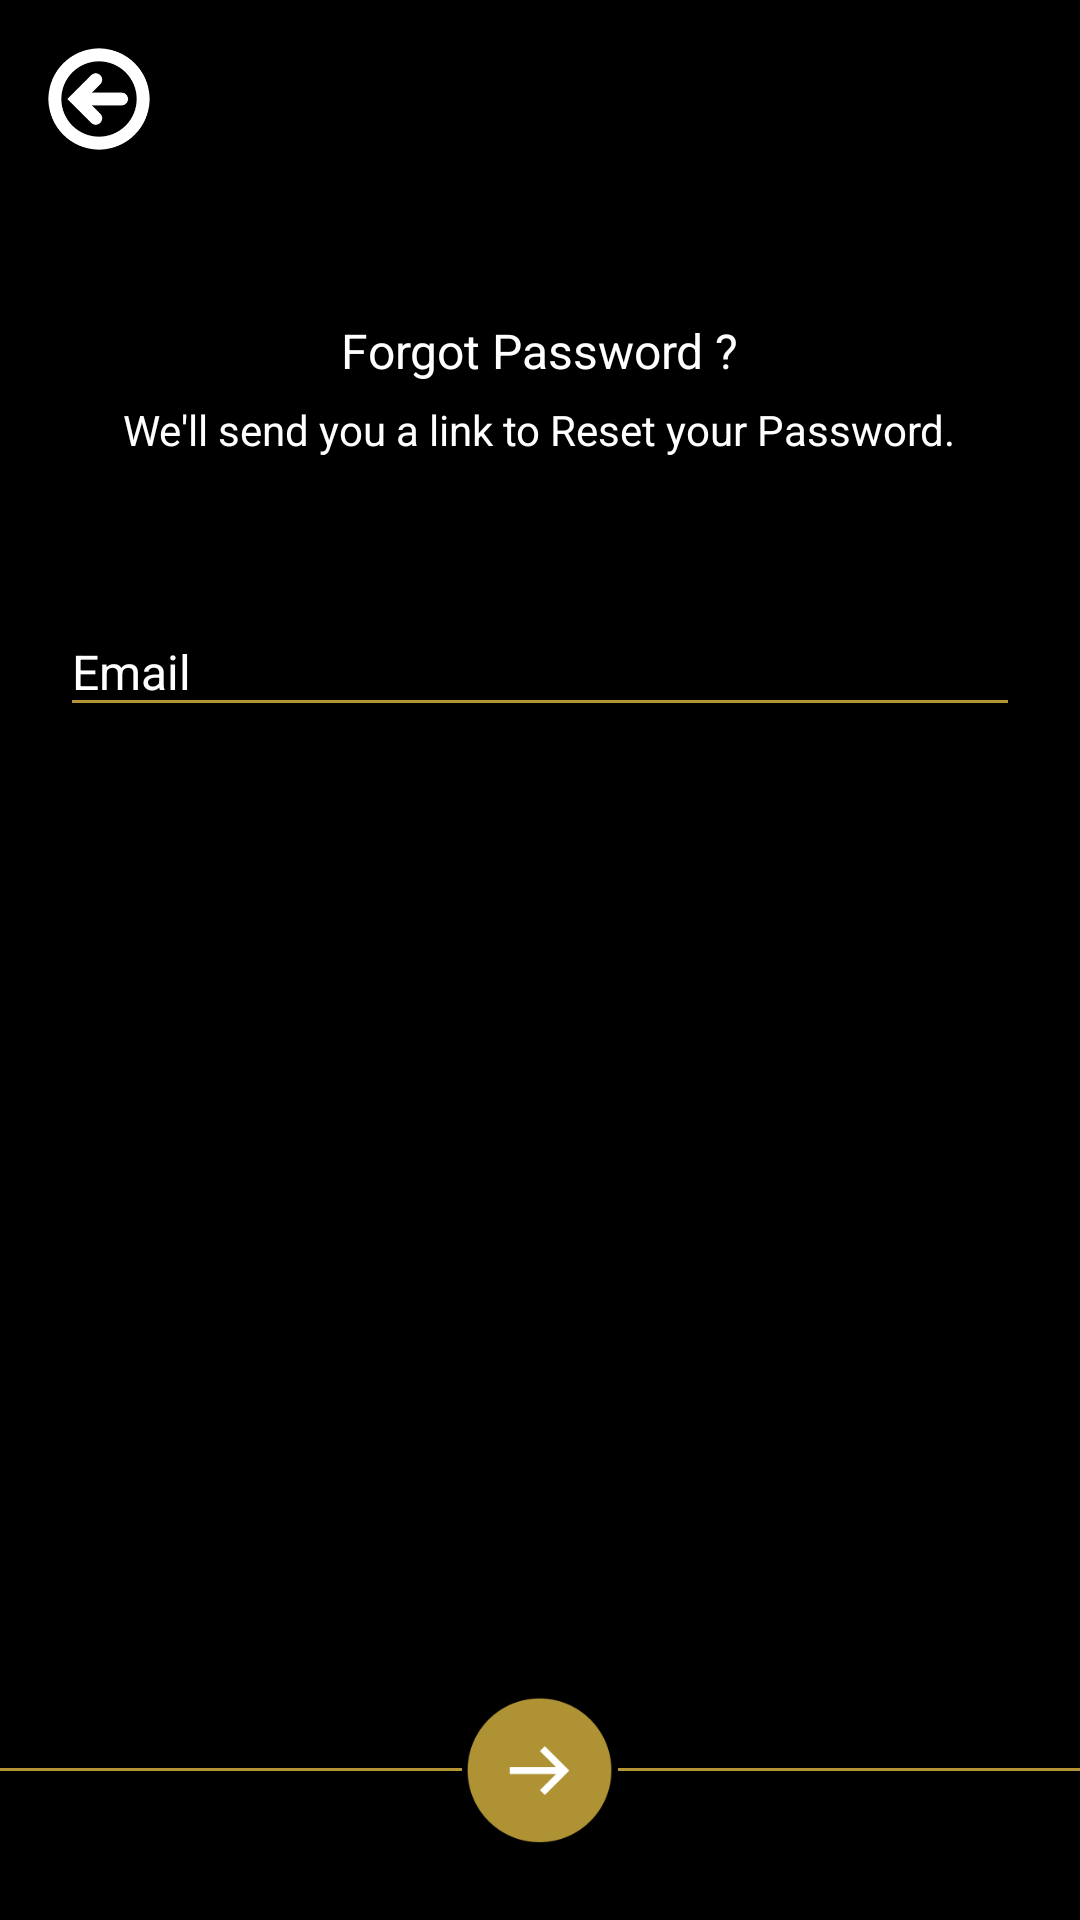

Point at icon controls on the screen. Image size 1080w x 1920h, points as point (x, y).
back: point (99, 99)
go nxt: point (539, 1770)
